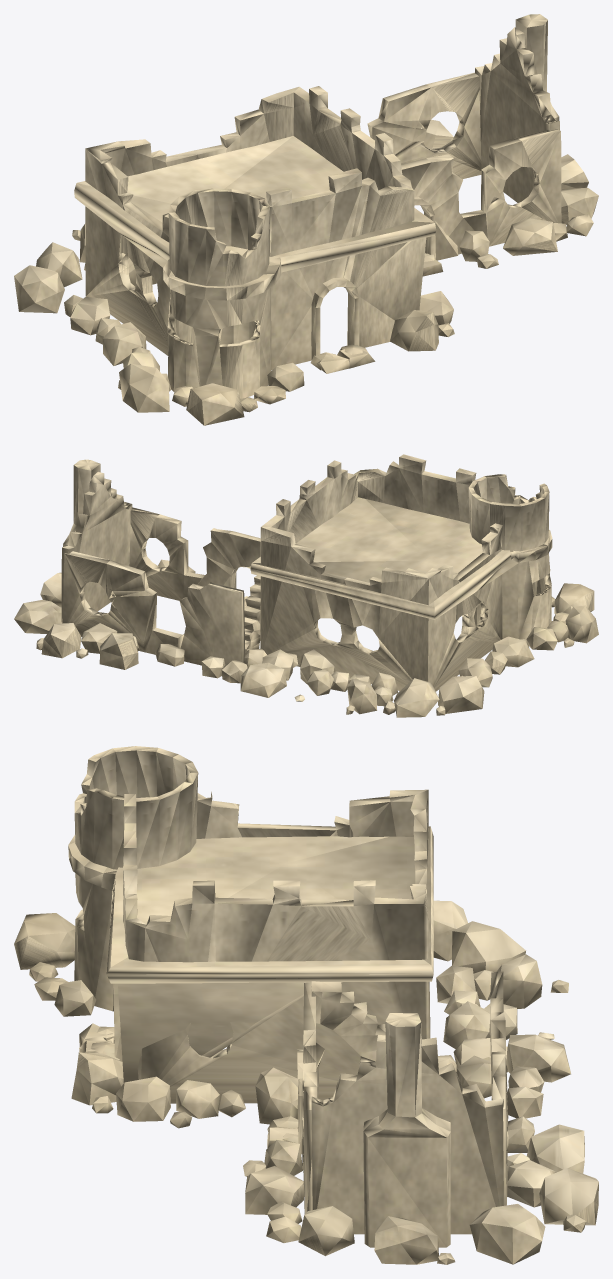
3 renders of one model, top to bottom at view 1: azimuth 30°, elevation 25°; view 2: azimuth 150°, elevation 25°; view 3: azimuth 270°, elevation 25°, orthographic. The views are drawn at different scales.
Parts seen in each view (by area): view 1: castle_d3.7; view 2: castle_d3.7; view 3: castle_d3.7.
Boxes of the visible parts, bbox=[...] form: castle_d3.7: bbox=[14, 14, 598, 425]; castle_d3.7: bbox=[14, 454, 598, 717]; castle_d3.7: bbox=[14, 746, 598, 1264].
Size of the model in its own units: 2.9 by 0.8831 by 2.1.
Materials: 1 (1 with a texture image).
